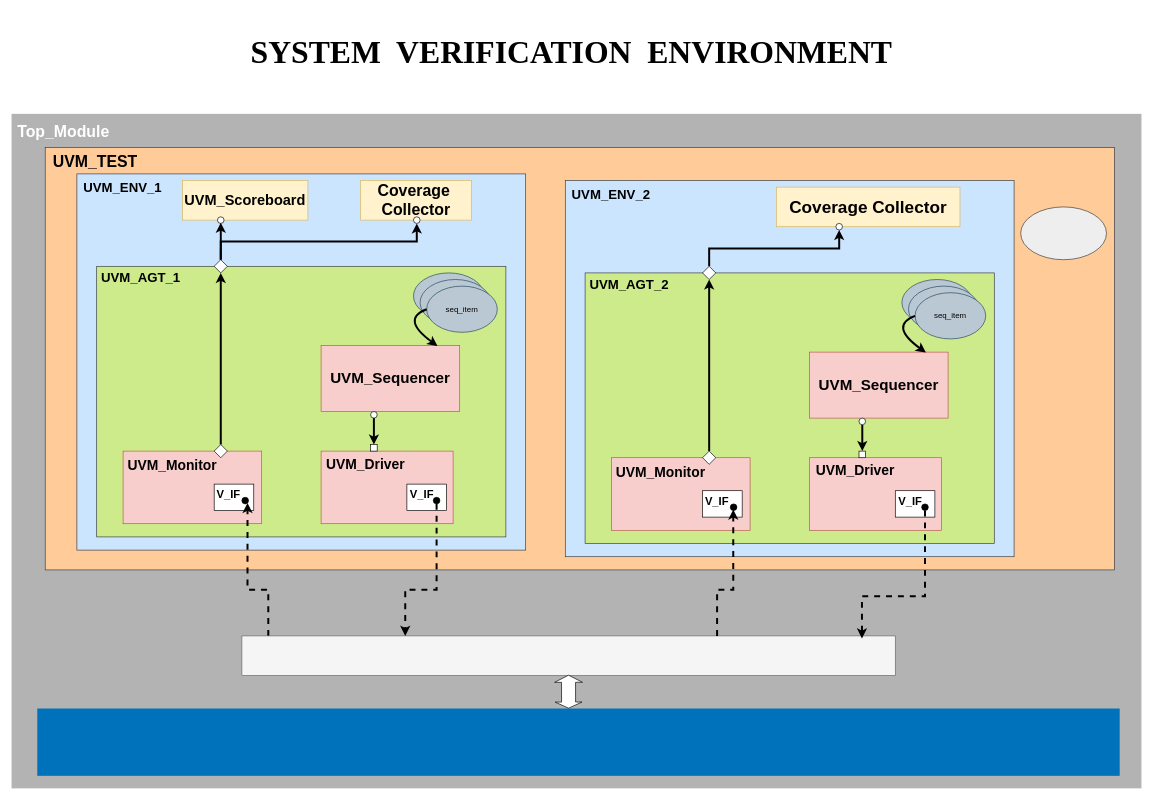
Some shapes in this 1152 by 799 pixel diagram are drawn without their labels. The shapes that lost their labels are listed below. From the top down, each one's centre as x and y in pixels, then its label:
At point 1063,233: "Sequence".
At point 568,655: "Interface".
At point 578,742: "DUT".
